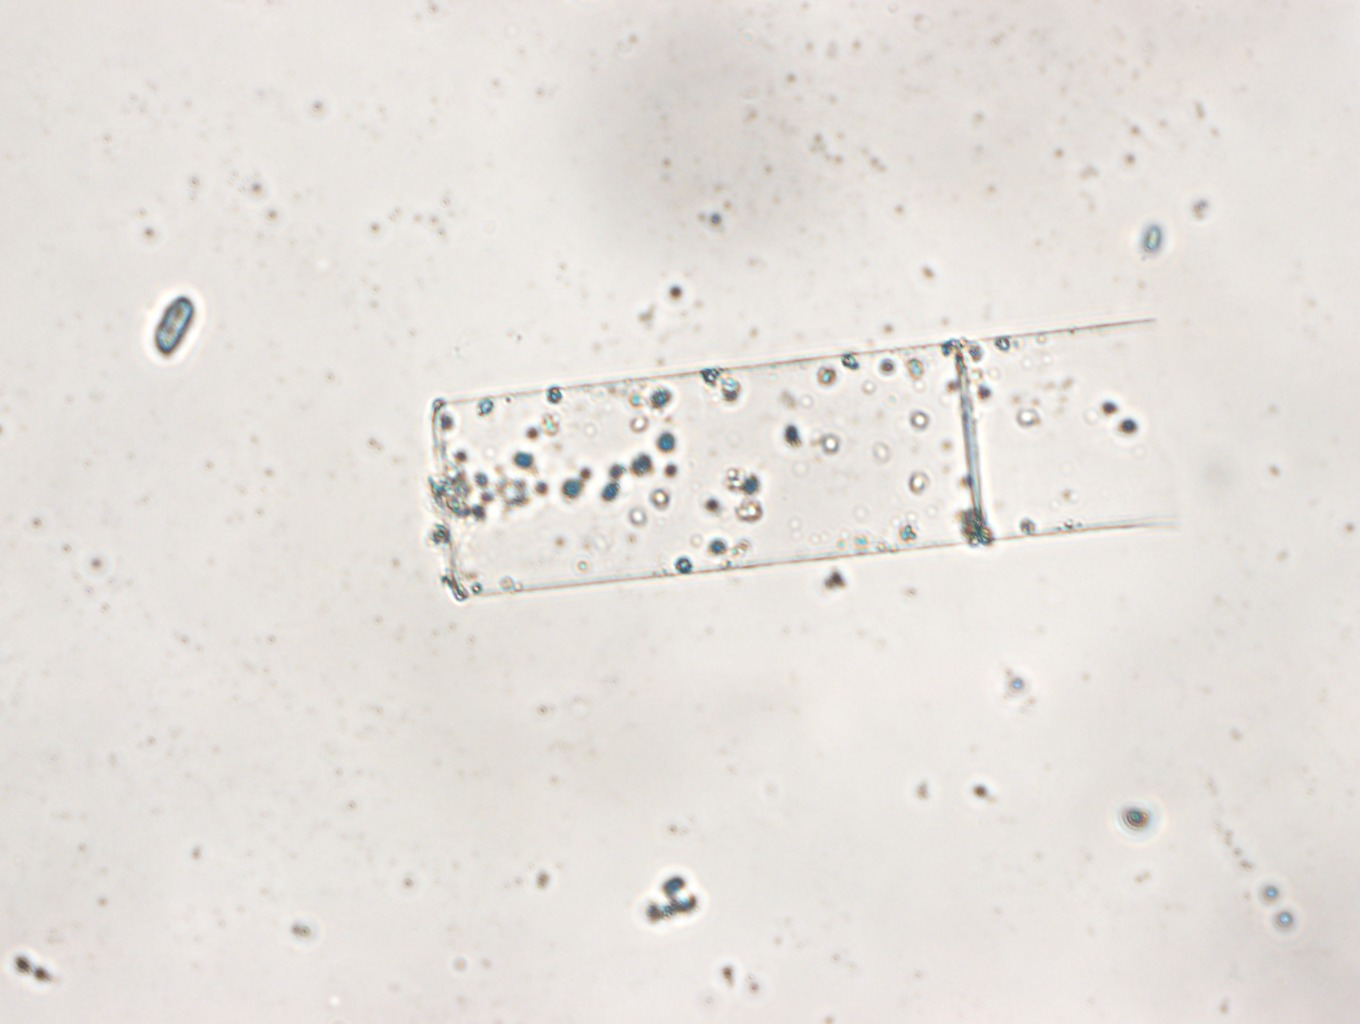guinardia flaccida: (423, 315, 1191, 610)
